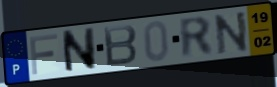0: (141, 19, 171, 64)
B: (102, 24, 139, 68)
F: (28, 32, 60, 77)
N: (60, 26, 98, 75), (212, 10, 250, 57)
R: (177, 15, 216, 61)
